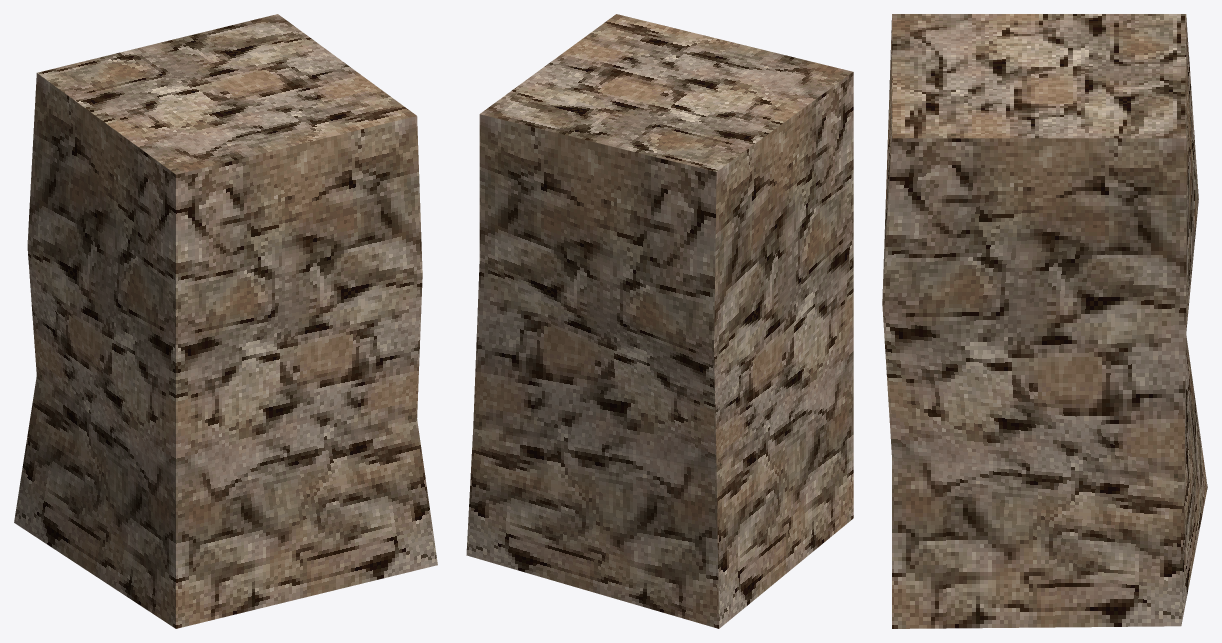
Rendered from drystone_column.glb.
3 renders of one model, left to right at view 1: azimuth 30°, elevation 25°; view 2: azimuth 150°, elevation 25°; view 3: azimuth 270°, elevation 25°, orthographic. The views are drawn at different scales.
Parts seen in each view (by area): view 1: drystone_column; view 2: drystone_column; view 3: drystone_column.
Boxes of the visible parts, box(x1,y1,x2,y2) form: drystone_column: box(14, 14, 437, 628); drystone_column: box(466, 14, 853, 628); drystone_column: box(882, 14, 1207, 628).
Size of the model in its own units: 0.7114 by 1.12 by 0.6911.
1 material, 1 textured.
